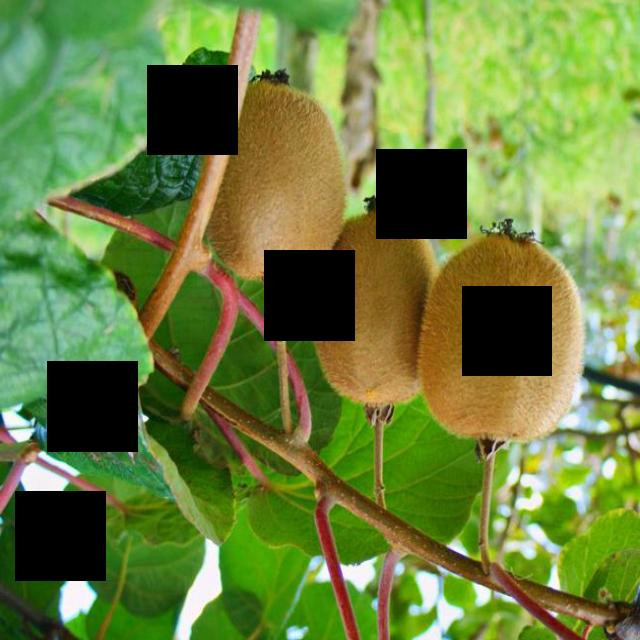kiwi: (411, 234, 588, 454), (199, 74, 353, 280), (309, 201, 440, 420)
